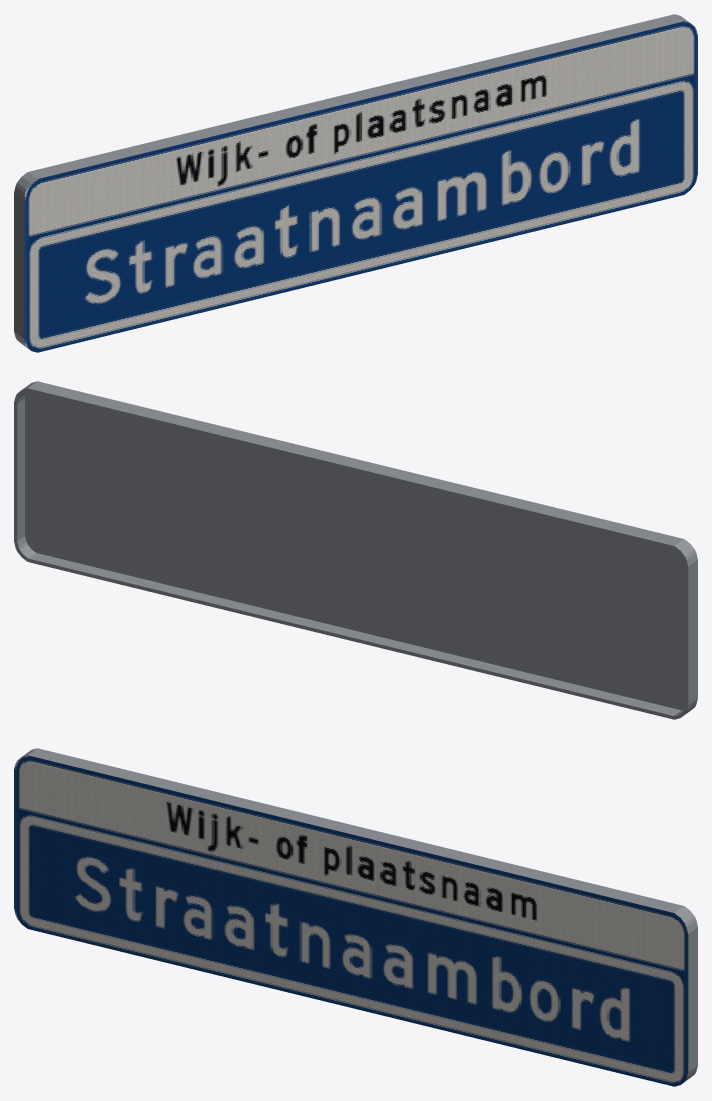
The picture shows the model from 3 angles, top to bottom: view 1: azimuth 30°, elevation 25°; view 2: azimuth 150°, elevation 25°; view 3: azimuth 330°, elevation 25°; orthographic projection.
Visible parts, largest first — view 1: cat_f94a8f3d673df368; view 2: cat_f94a8f3d673df368; view 3: cat_f94a8f3d673df368.
Boxes of the visible parts, x1=… form: cat_f94a8f3d673df368: x1=14, y1=14, x2=697, y2=352; cat_f94a8f3d673df368: x1=14, y1=381, x2=697, y2=719; cat_f94a8f3d673df368: x1=14, y1=748, x2=697, y2=1086.
Bounding box in the file's own units: 0.6 × 0.015 × 0.1476.
2 materials, 1 textured.
